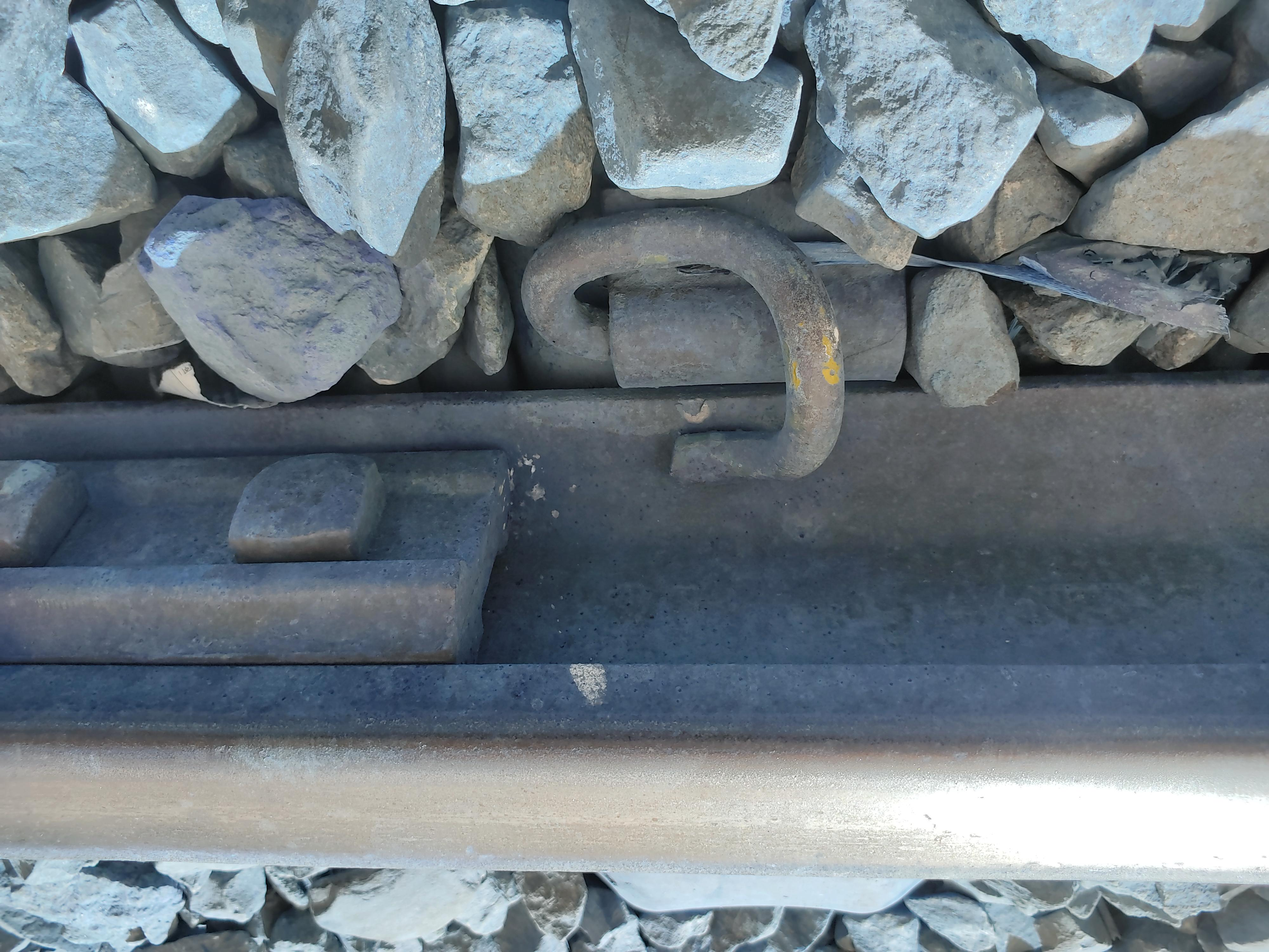Poor contact: (516, 203, 902, 506)
